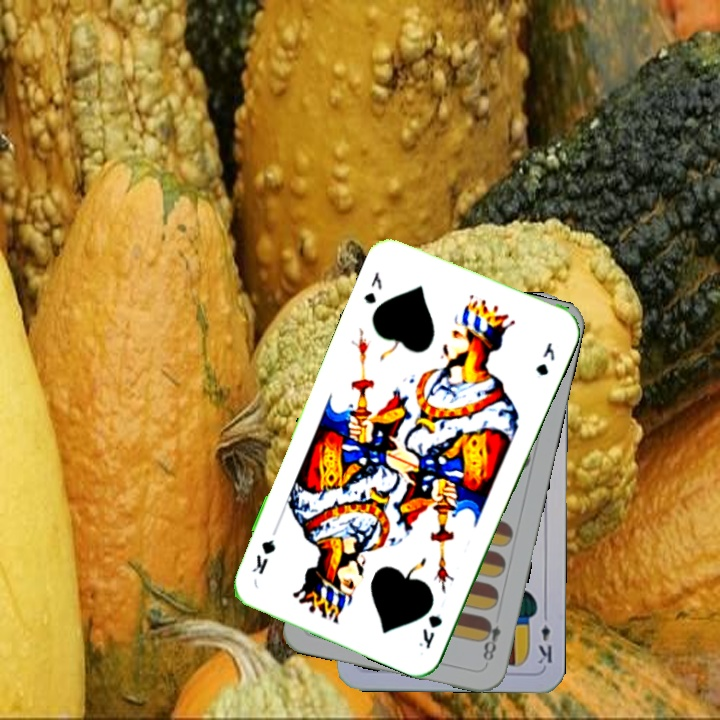E8: (477, 614, 504, 668)
EK: (534, 607, 555, 666)
GK: (414, 611, 445, 652), (360, 267, 385, 307)
